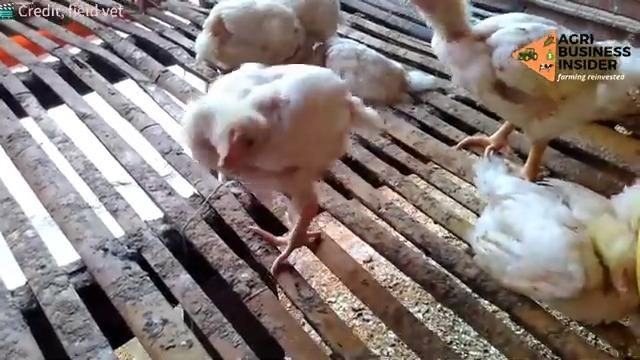AbNormal: (183, 64, 352, 263)
